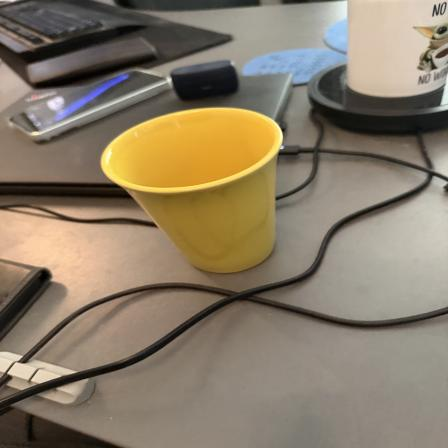yellow_cup: (108, 118, 298, 278)
